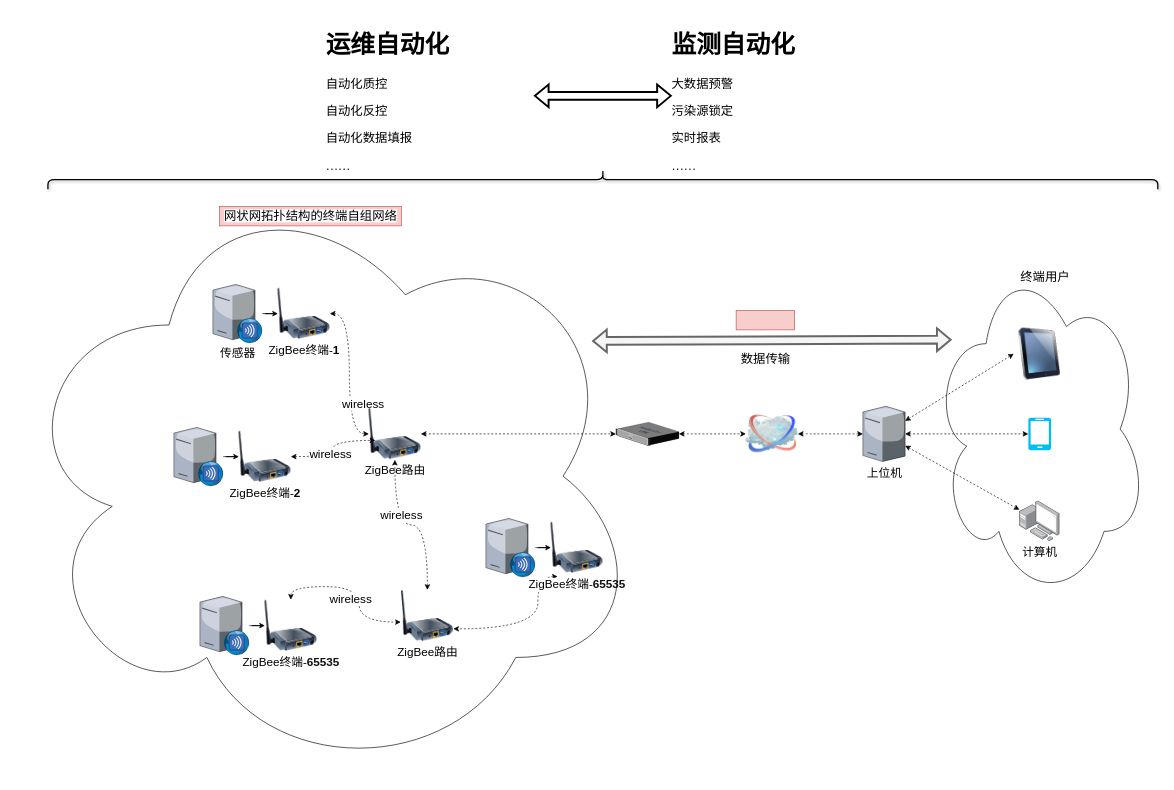
The diagram is 1174 pixels wide and 790 high, and some of its shapes have lost their labels. The centre of each missing label's shape, as x and y in pixels:
ARM数据传输采集仪 （集成ZigBee协调器）: pixel 647 434
传输网络: pixel 772 434
平板: pixel 1039 354
手机: pixel 1039 433
设备反控: pixel 765 320
